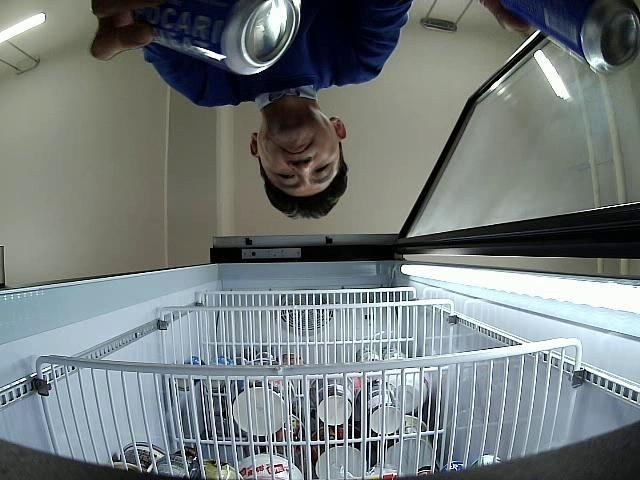13_pocariSweat: (128, 0, 302, 75), (498, 0, 640, 73)
